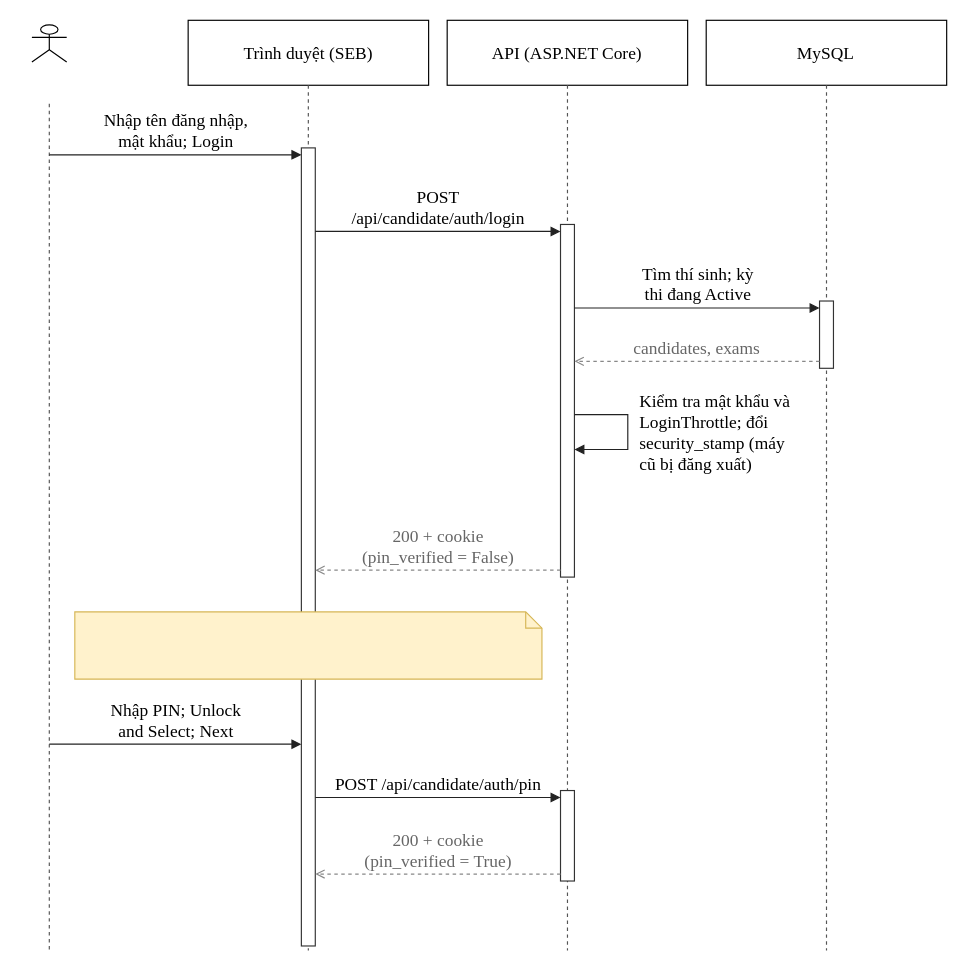
This 967x972 diagram has some shape labels left out. The shapes that lost their labels are listed below. From the top down, each one's box as (x1, y1, x2, y2) in pixels, then its label:
(31, 24, 67, 62): Thí sinh
(74, 611, 542, 679): Thí sinh bấm Next và chờ. Khi cả phòng đã đăng nhập, giám thị đọc mã PIN.
